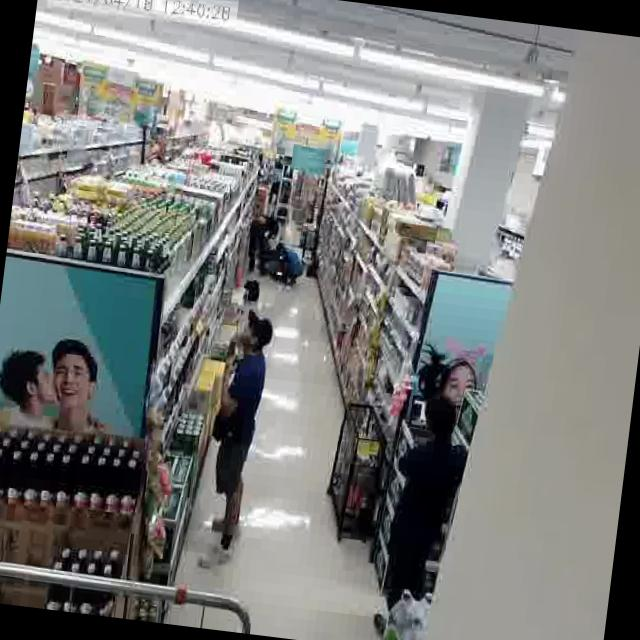shoplifting: (180, 294, 286, 582)
